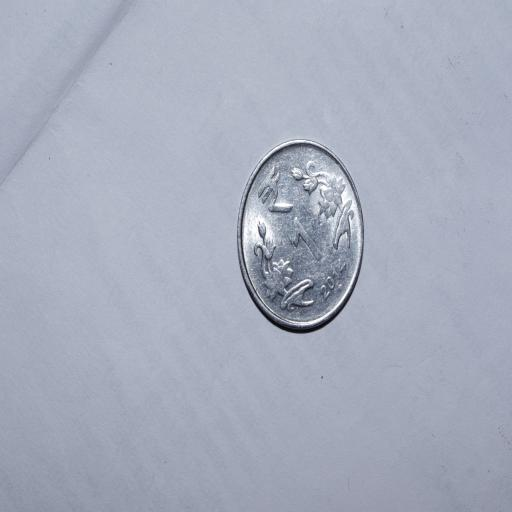rupee1: (236, 140, 361, 329)
